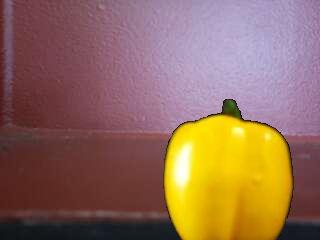Capsicum: (161, 97, 293, 240)
